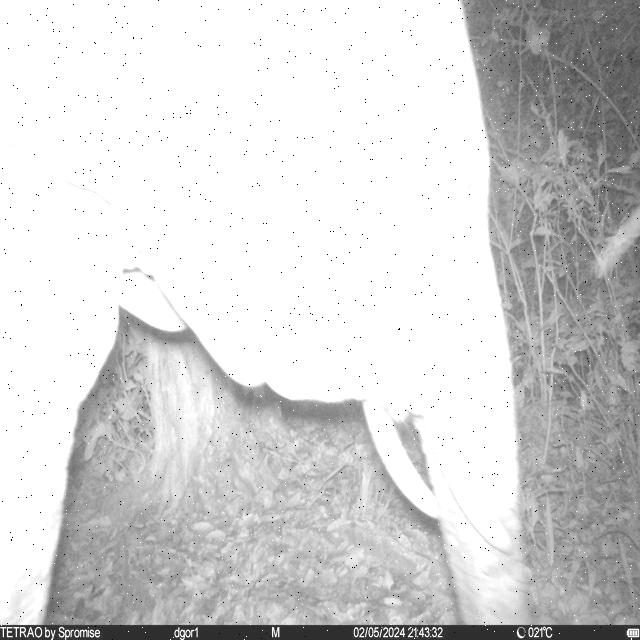ear: (0, 1, 268, 389)
elephant: (0, 0, 532, 625)
tusk: (423, 408, 515, 558), (361, 398, 442, 521)
